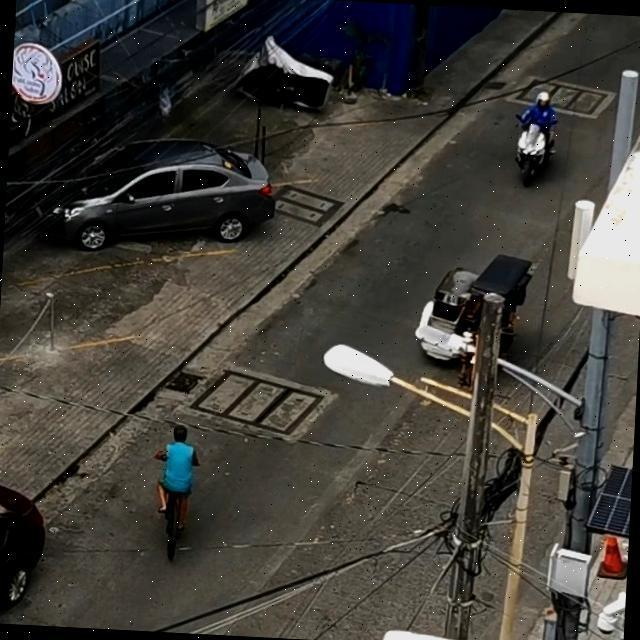Motorcycle: (492, 79, 572, 193)
Tricycle: (387, 231, 556, 415)
